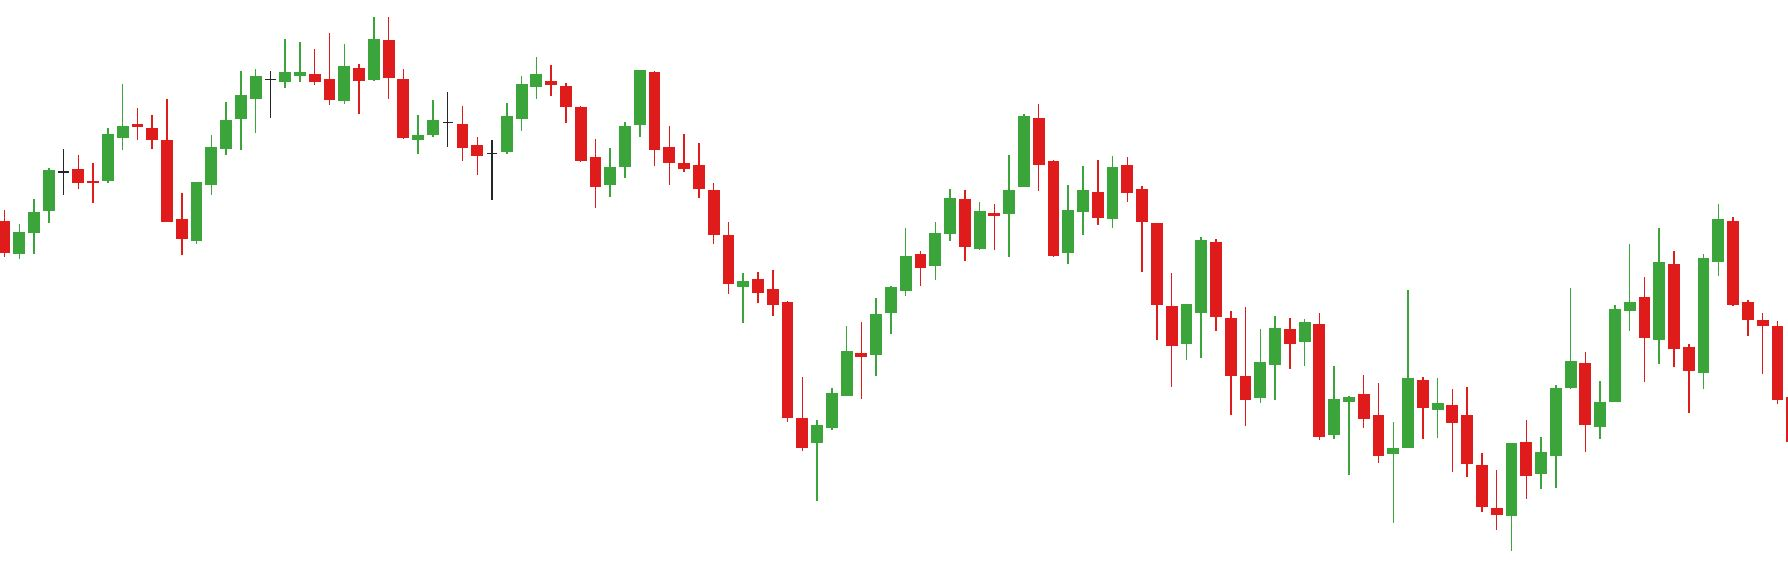buy: (1385, 410, 1520, 558), (86, 138, 204, 256)
sell: (1650, 203, 1742, 350)
